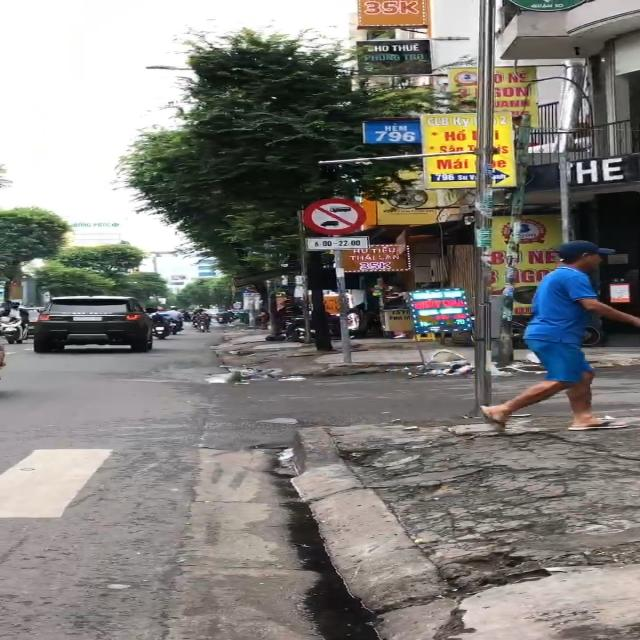Bien bao cam xe oto khach va xe oto tai: (296, 196, 368, 237)
